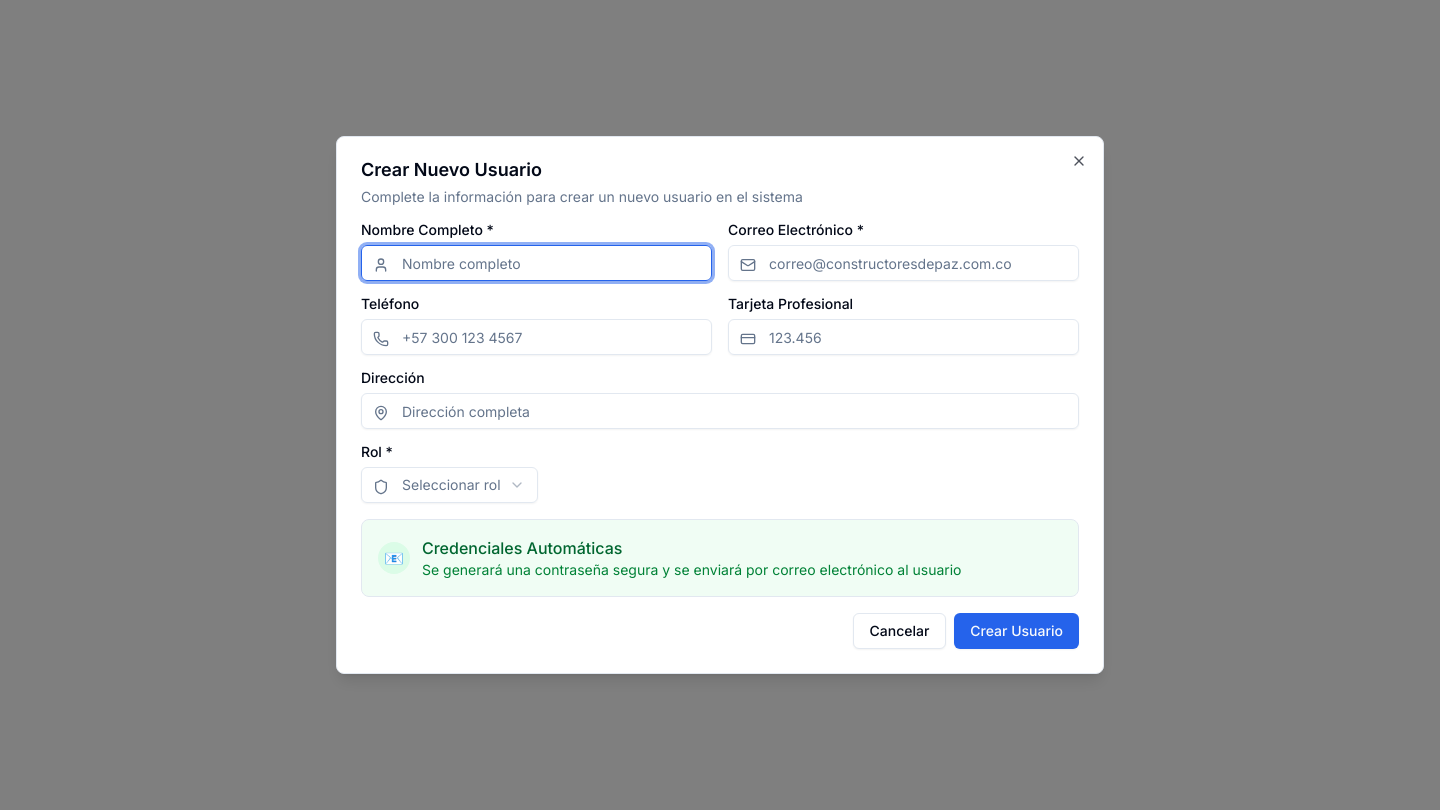
Test: Crear Nuevo Usuario (users/create-user-dialog) › al guardar con el nombre vacío SÍ muestra el error
Click the button "Crear Usuario" at coordinates (1017, 631), box left=954, top=613, right=1079, bottom=649
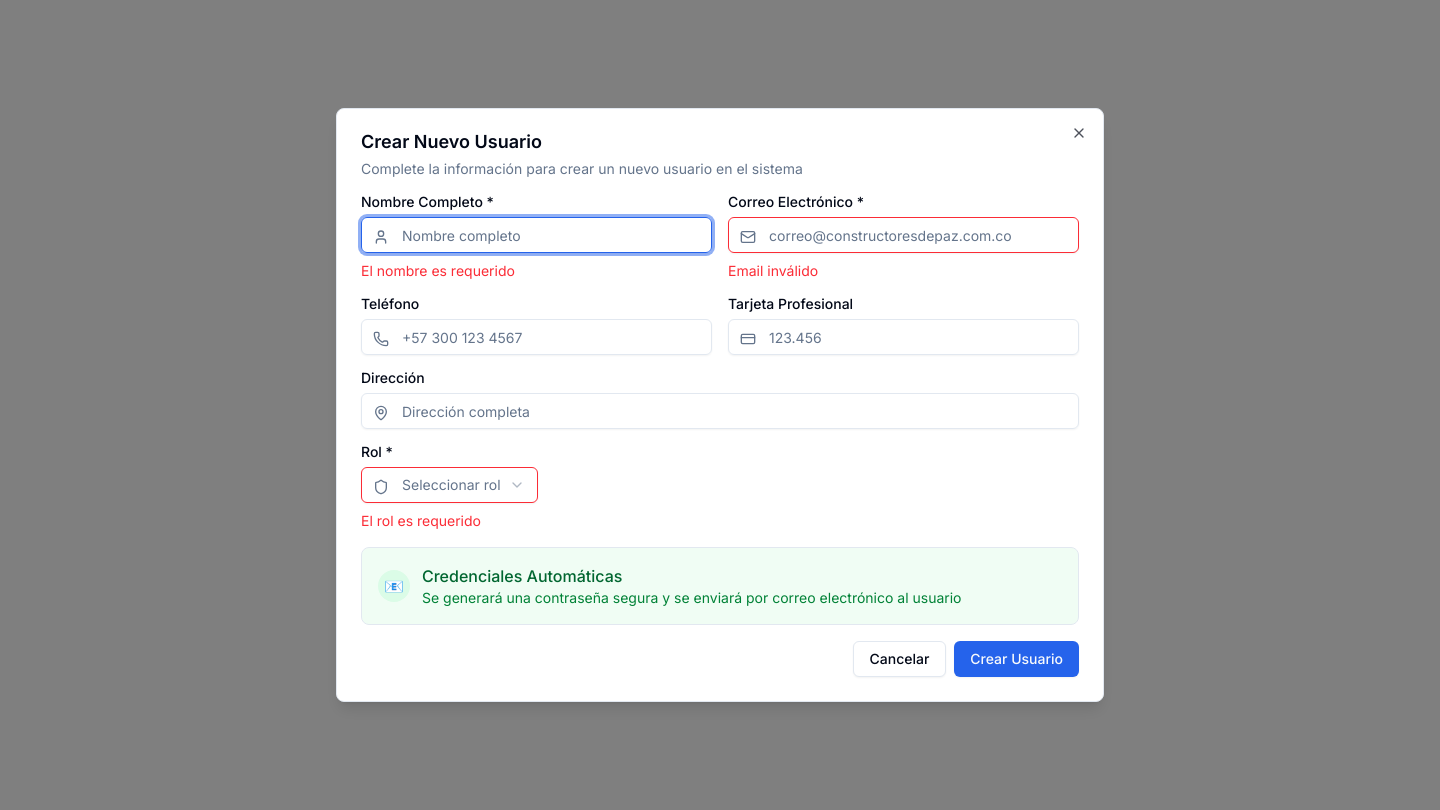
Check: the text "El nombre es requerido" is shown, box left=361, top=262, right=515, bottom=279
